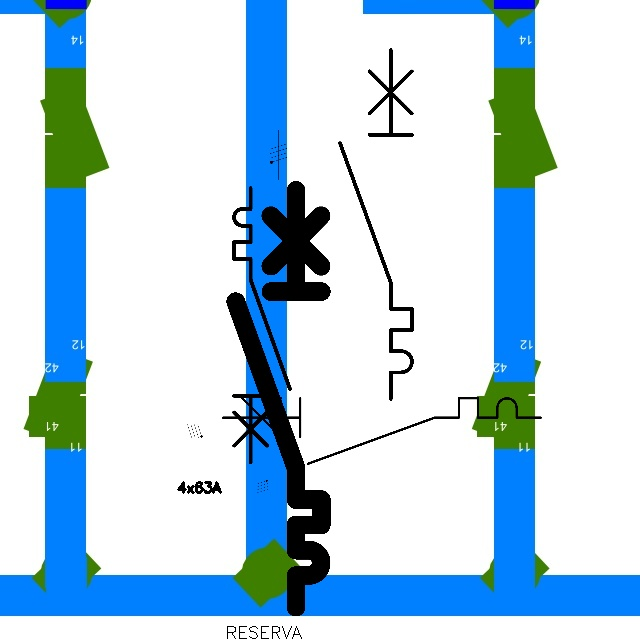interruptor_termomagnetico: (225, 179, 332, 617), (331, 41, 421, 408), (214, 390, 548, 471), (227, 181, 297, 469)
